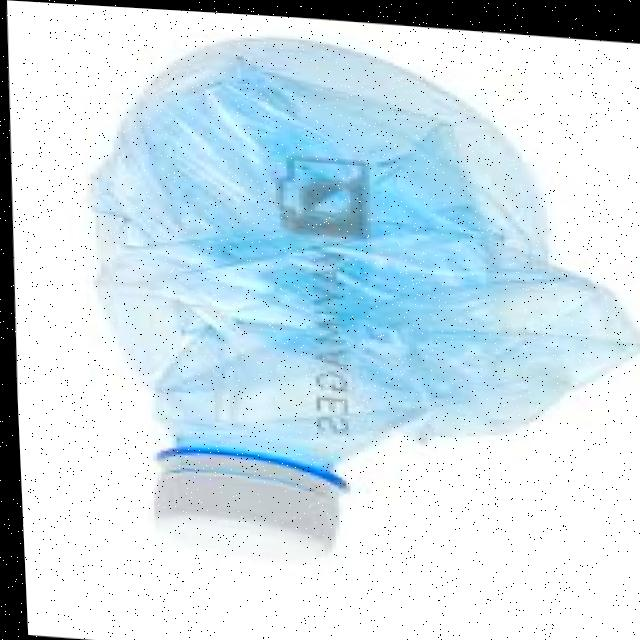sise: (36, 2, 640, 614)
